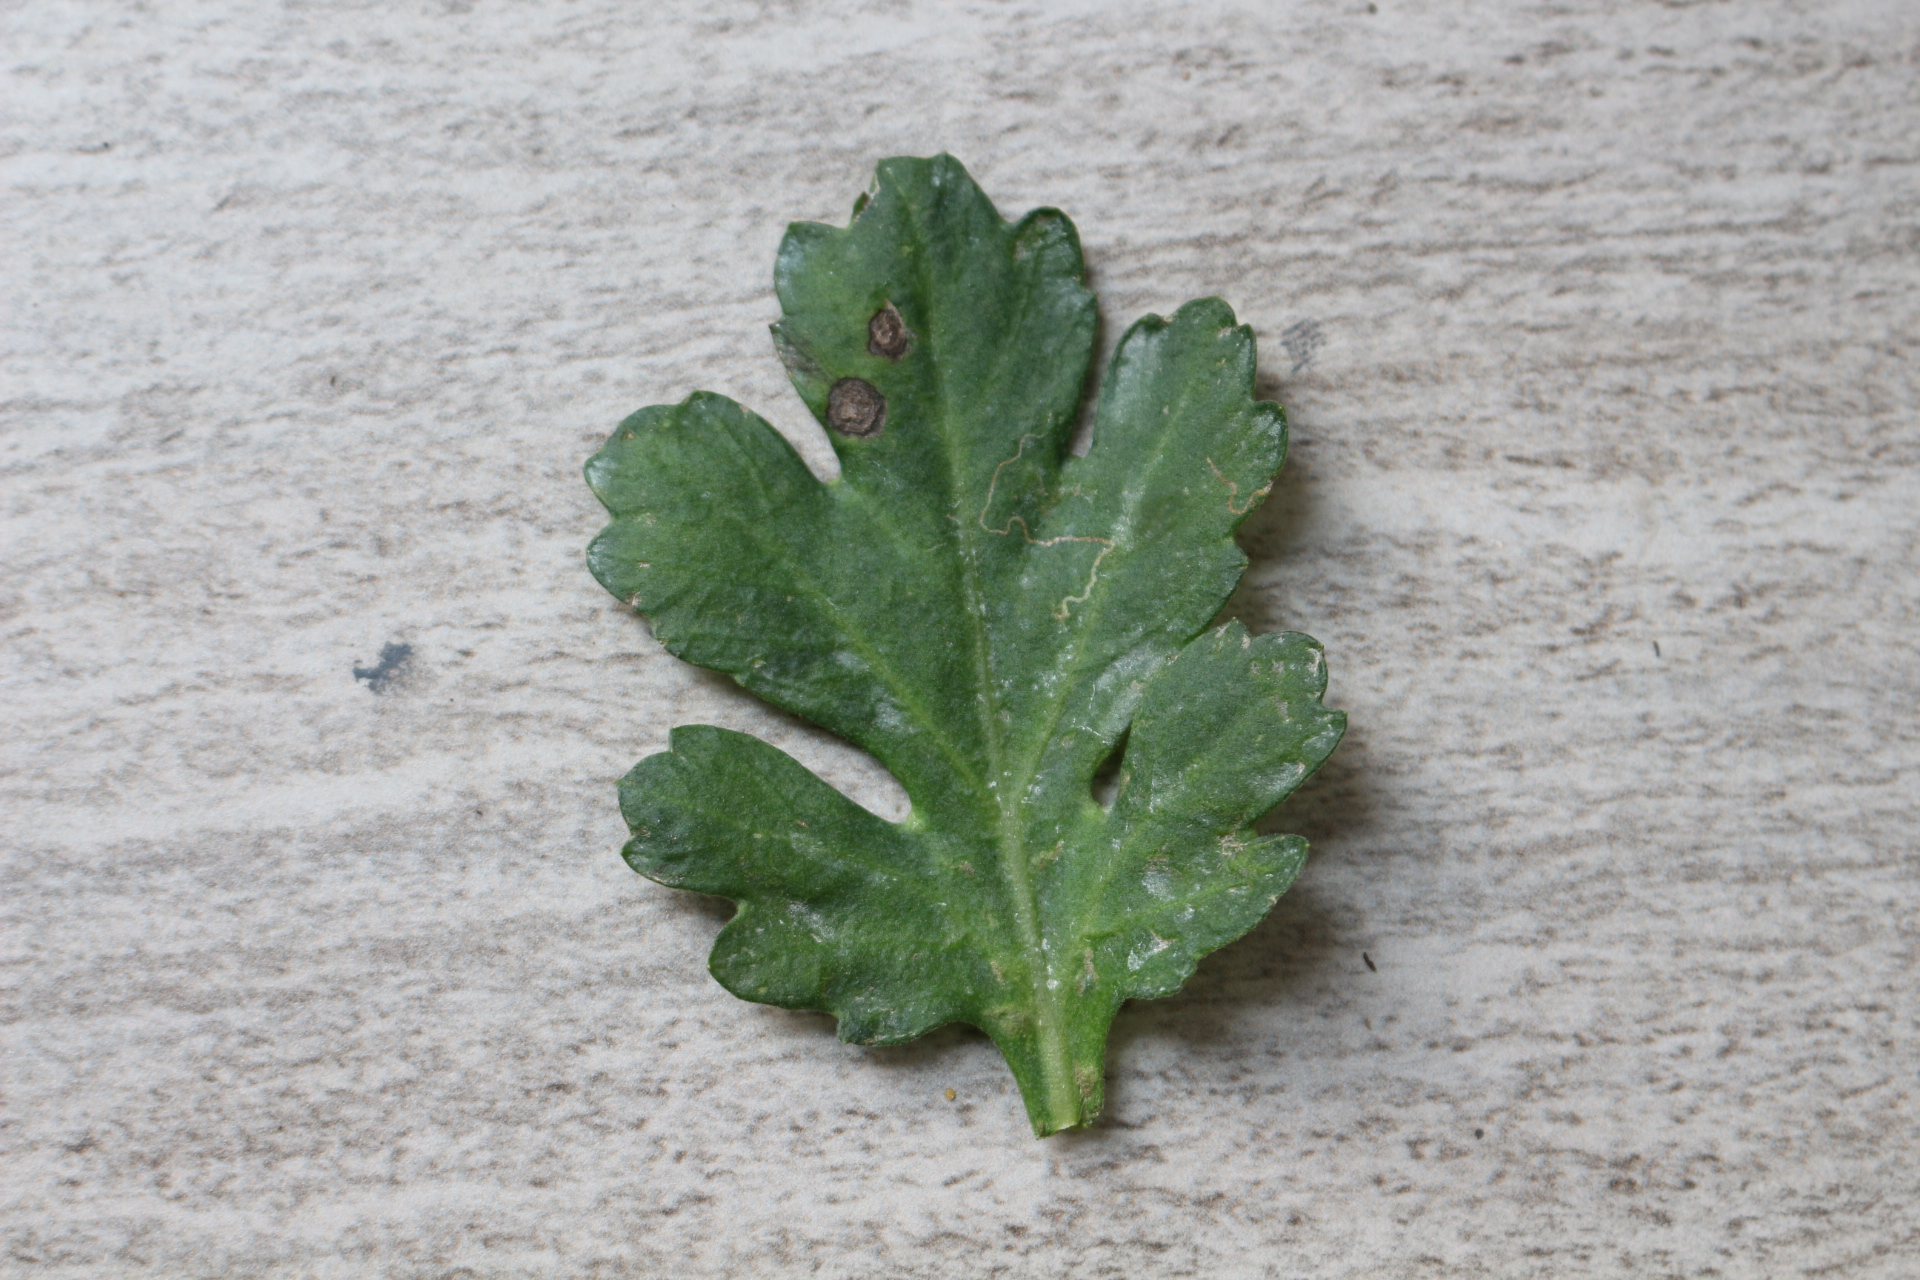namden: (853, 301, 924, 361), (817, 379, 887, 437)
